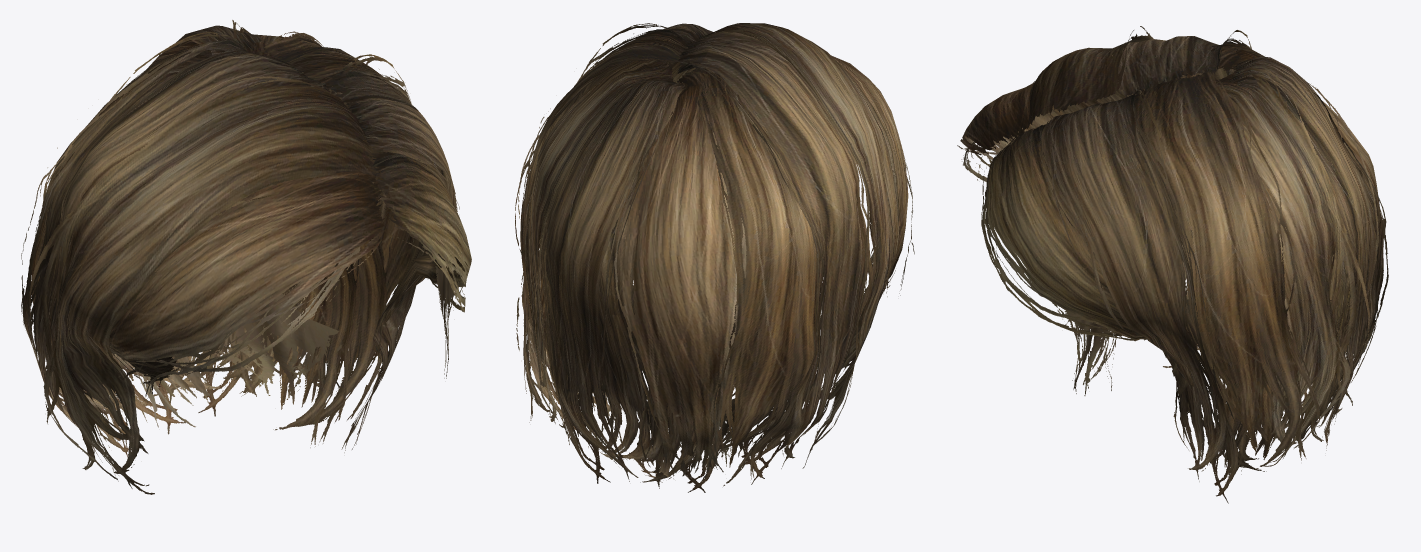
The model's file is Hair.obj.
3 views of the same model, side by side, from view 1: azimuth 30°, elevation 25°; view 2: azimuth 150°, elevation 25°; view 3: azimuth 270°, elevation 25° (orthographic). The views are drawn at different scales.
Visible parts, largest first — view 1: Mesh0; view 2: Mesh0; view 3: Mesh0.
Boxes of the visible parts, <box> form: Mesh0: <box>21,20,471,494</box>; Mesh0: <box>515,23,914,492</box>; Mesh0: <box>957,26,1388,503</box>.
Bounding box in the file's own units: 0.1991 × 0.23 × 0.2173.
1 material, 1 textured.
